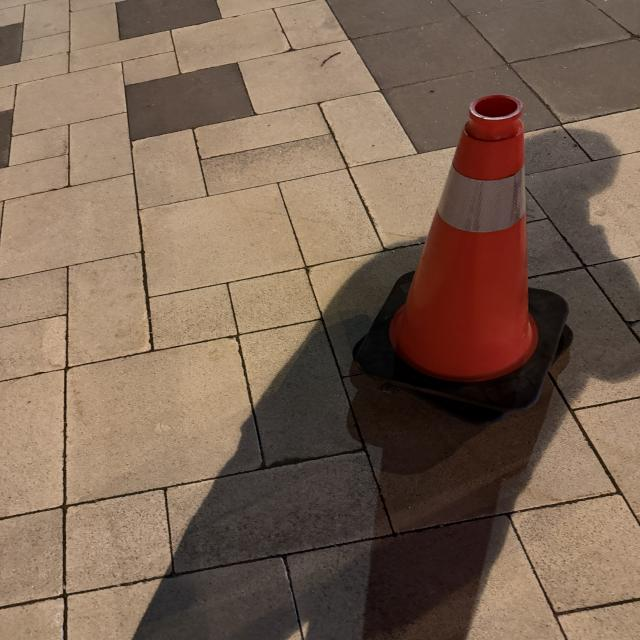Traffic Cone: (347, 93, 575, 410)
